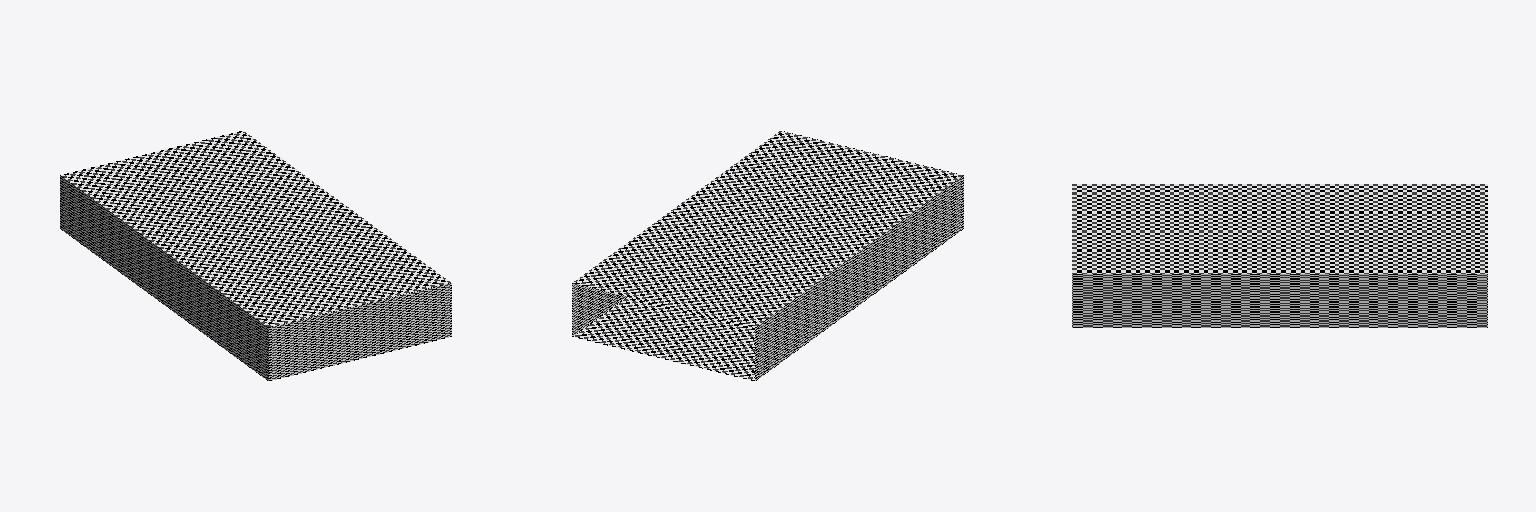
3 views of the same model, side by side, from view 1: azimuth 30°, elevation 25°; view 2: azimuth 150°, elevation 25°; view 3: azimuth 270°, elevation 25° (orthographic).
Parts seen in each view (by area): view 1: Cube; view 2: Cube; view 3: Cube.
Part boxes in pixels (bbox=[...]): Cube: bbox=[60, 131, 451, 380]; Cube: bbox=[572, 131, 963, 380]; Cube: bbox=[1072, 184, 1487, 327].
Size of the model in its own units: 355 by 100 by 700.
3 materials, 1 textured.